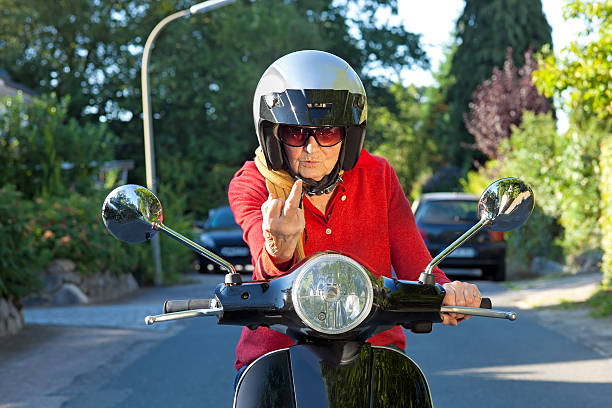insulting_gesture: (261, 181, 305, 257)
